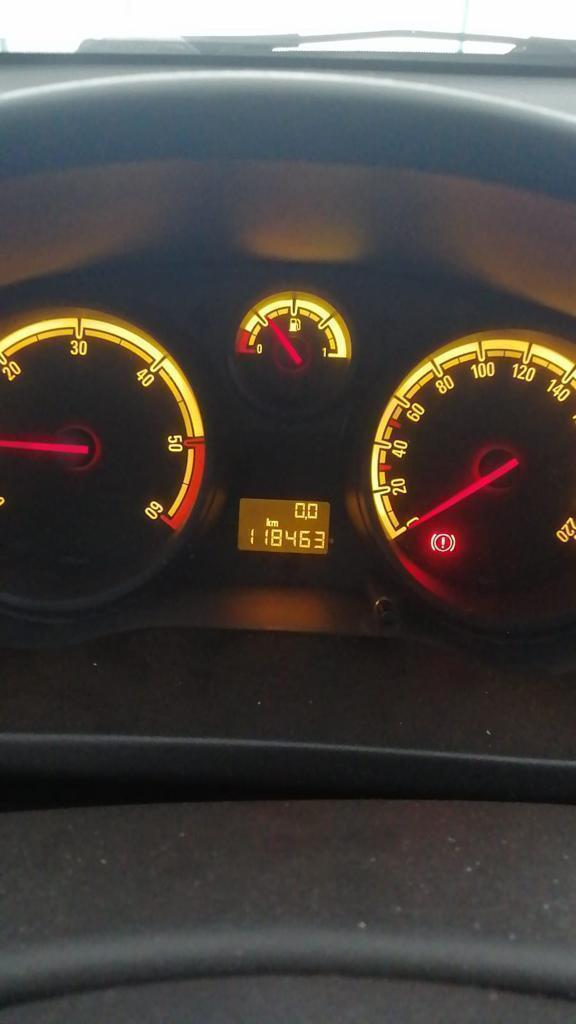,: (304, 515, 307, 520)
0: (293, 501, 304, 519), (307, 502, 317, 519)
1: (261, 527, 269, 546), (248, 527, 256, 545)
3: (312, 530, 326, 549)
4: (283, 528, 297, 548)
6: (298, 529, 311, 549)
8: (270, 527, 282, 547)
X: (265, 516, 271, 527), (271, 520, 278, 527)
odometer: (232, 492, 334, 558)
